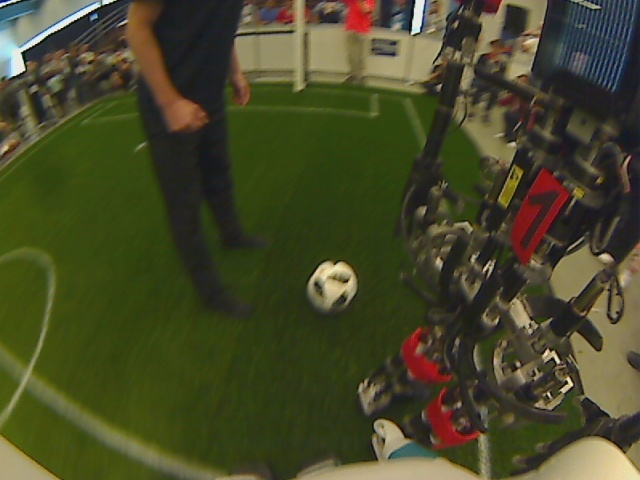ball: (305, 260, 359, 315)
